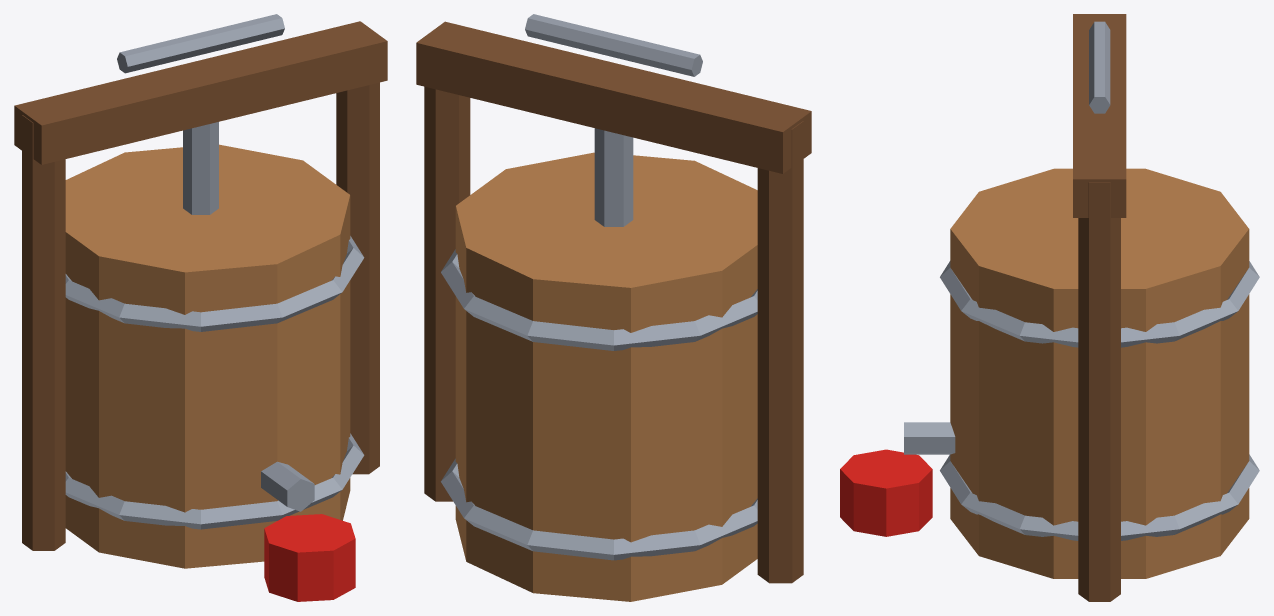
File: machine_juicer.glb
3 views of the same model, side by side, from view 1: azimuth 30°, elevation 25°; view 2: azimuth 150°, elevation 25°; view 3: azimuth 270°, elevation 25° (orthographic). The views are drawn at different scales.
Parts seen in each view (by area): view 1: machine_juicer; view 2: machine_juicer; view 3: machine_juicer.
Boxes of the visible parts, x1=… form: machine_juicer: x1=14, y1=14, x2=387, y2=601; machine_juicer: x1=416, y1=14, x2=811, y2=601; machine_juicer: x1=840, y1=14, x2=1259, y2=601.
Size of the model in its own units: 1.1 by 1.43 by 1.18.
